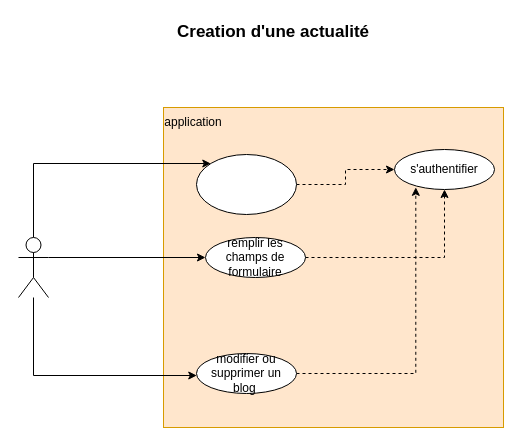
The diagram is 521 pixels wide and 445 high, and some of its shapes have lost their labels. Here are the shapes that lost their labels. From the top down, the centre of each, then its label:
At point 246,184: "Consulter les blogs".
At point 33,267: "admin".
